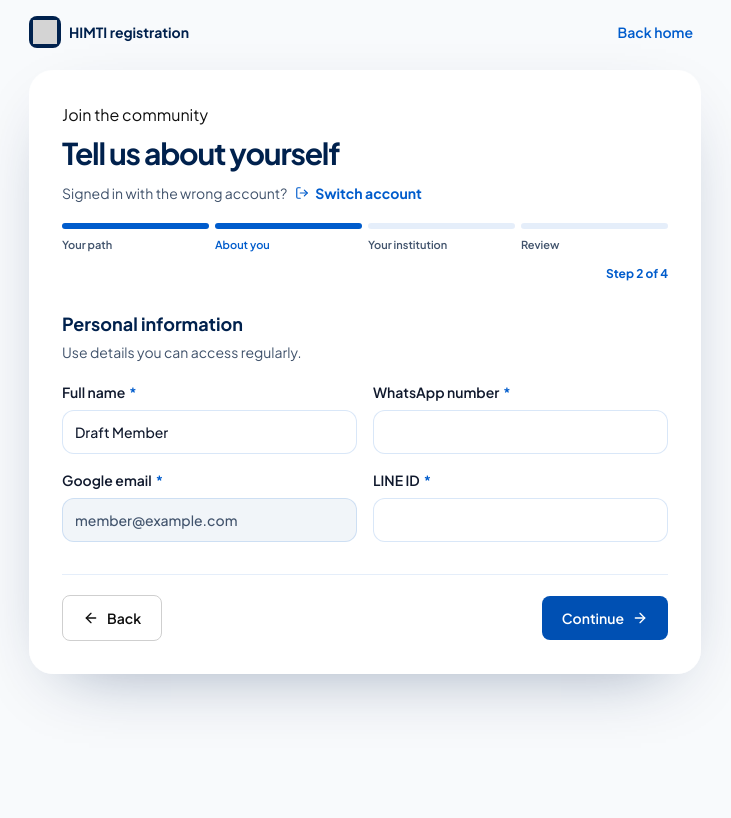
Test: returns a restored review draft to its first invalid step
The image size is (731, 818).
Expected: the heading "Personal information" is shown, [62,312,243,334]
Click the button "Continue" at point(605, 618), box [542,596,668,640]
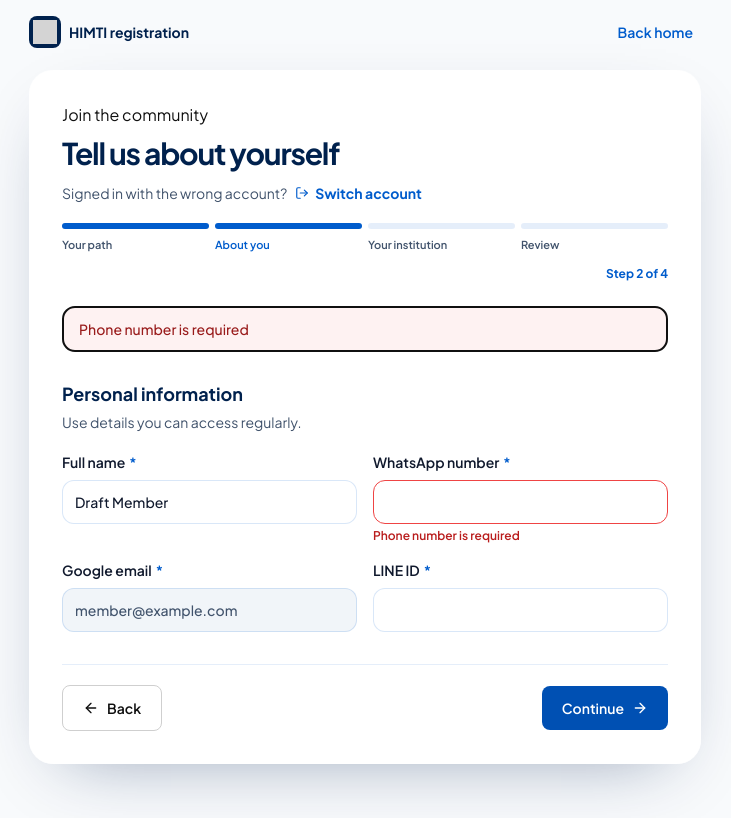
Result: the text "Phone number is required" is shown at [373,528,520,542]
